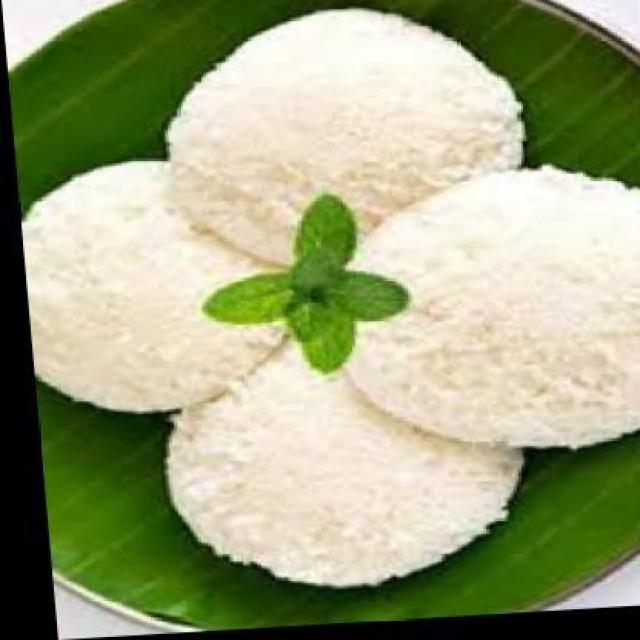idli: (148, 320, 517, 598), (156, 6, 526, 279), (317, 168, 640, 463), (12, 156, 292, 418)
